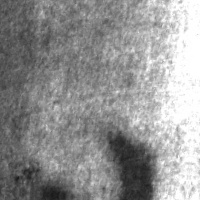patches: (101, 133, 159, 199)
